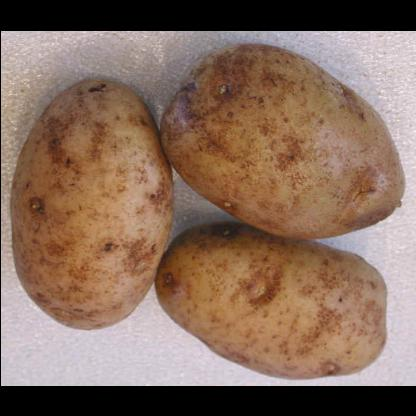potato: (160, 44, 404, 238), (10, 80, 172, 330), (152, 222, 386, 380)
